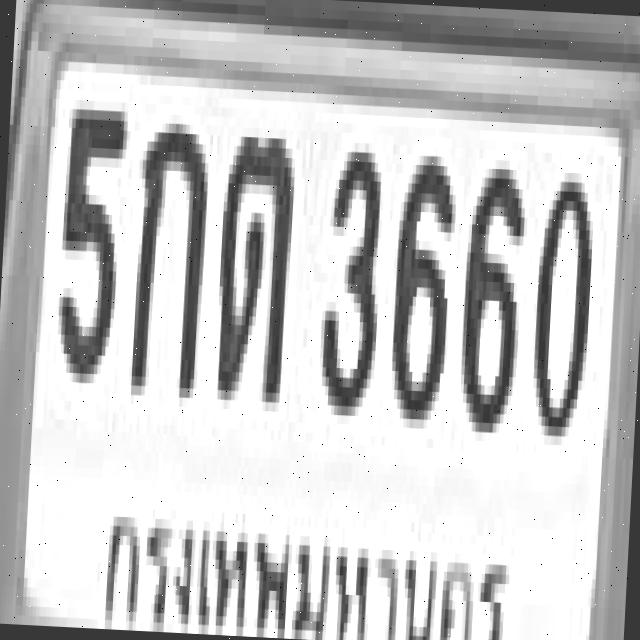0: (527, 162, 593, 428)
10GorGai: (128, 113, 208, 389)
3: (314, 142, 383, 408)
30TorTao: (210, 126, 294, 394)
5: (52, 100, 126, 376)
6: (455, 158, 524, 424), (387, 145, 452, 411)
Bangkok: (97, 478, 516, 640)
